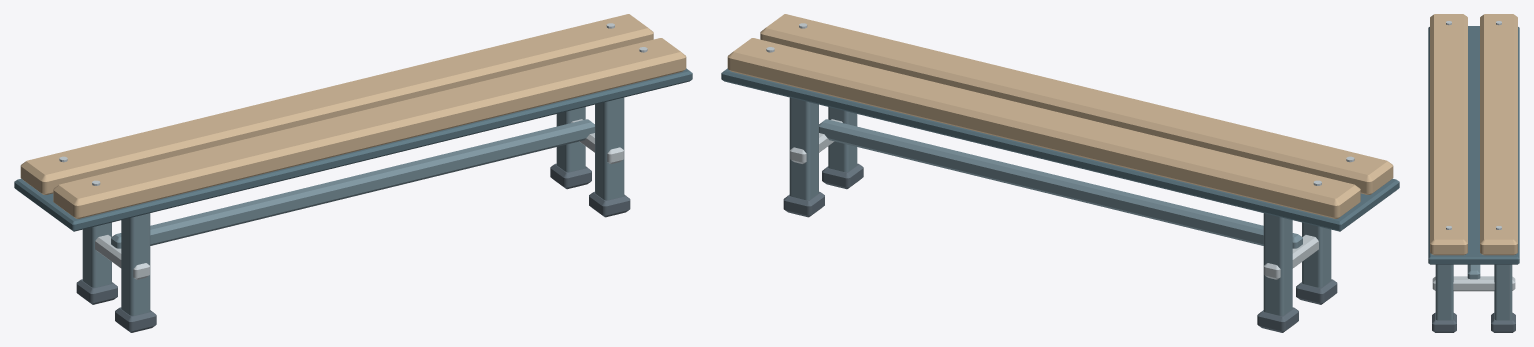
The model's file is canteen_bench.glb.
3 views of the same model, side by side, from view 1: azimuth 30°, elevation 25°; view 2: azimuth 150°, elevation 25°; view 3: azimuth 270°, elevation 25° (orthographic). The views are drawn at different scales.
Visible parts, largest first — view 1: 001_wooden_seat_slat, 000_wooden_seat_slat, 013_stretcher_longitudinal, 002_steel_slat_edge, 010_frame_leg, 005_frame_leg, 003_frame_leg, 008_frame_leg, 007_leg_end_crossbar, 009_rubber_foot, 004_rubber_foot, 011_rubber_foot (+1 smaller); view 2: 000_wooden_seat_slat, 001_wooden_seat_slat, 013_stretcher_longitudinal, 002_steel_slat_edge, 008_frame_leg, 003_frame_leg, 005_frame_leg, 010_frame_leg, 007_leg_end_crossbar, 011_rubber_foot, 006_rubber_foot, 009_rubber_foot (+1 smaller); view 3: 000_wooden_seat_slat, 001_wooden_seat_slat, 002_steel_slat_edge, 008_frame_leg, 010_frame_leg, 012_leg_end_crossbar, 009_rubber_foot, 011_rubber_foot, 013_stretcher_longitudinal.
Part boxes in pixels (x1,y1,x2,y2): 001_wooden_seat_slat: [53, 38, 686, 218]; 000_wooden_seat_slat: [20, 14, 653, 194]; 013_stretcher_longitudinal: [111, 119, 594, 248]; 002_steel_slat_edge: [14, 68, 692, 231]; 010_frame_leg: [595, 97, 624, 200]; 005_frame_leg: [121, 213, 150, 315]; 003_frame_leg: [82, 222, 111, 287]; 008_frame_leg: [556, 107, 585, 172]; 007_leg_end_crossbar: [95, 235, 149, 279]; 009_rubber_foot: [550, 163, 591, 189]; 004_rubber_foot: [76, 279, 117, 304]; 011_rubber_foot: [589, 191, 630, 217]; 000_wooden_seat_slat: [727, 38, 1360, 218]; 001_wooden_seat_slat: [760, 14, 1393, 194]; 013_stretcher_longitudinal: [819, 119, 1302, 248]; 002_steel_slat_edge: [721, 68, 1399, 231]; 008_frame_leg: [789, 97, 818, 200]; 003_frame_leg: [1263, 213, 1292, 315]; 005_frame_leg: [1302, 222, 1331, 287]; 010_frame_leg: [828, 107, 857, 172]; 007_leg_end_crossbar: [1264, 235, 1318, 279]; 011_rubber_foot: [822, 163, 863, 189]; 006_rubber_foot: [1296, 279, 1337, 304]; 009_rubber_foot: [783, 191, 824, 217]; 000_wooden_seat_slat: [1480, 14, 1517, 255]; 001_wooden_seat_slat: [1430, 14, 1467, 255]; 002_steel_slat_edge: [1428, 26, 1519, 264]; 008_frame_leg: [1494, 264, 1512, 320]; 010_frame_leg: [1435, 264, 1453, 320]; 012_leg_end_crossbar: [1432, 276, 1515, 291]; 009_rubber_foot: [1491, 312, 1515, 332]; 011_rubber_foot: [1432, 312, 1456, 332]; 013_stretcher_longitudinal: [1467, 264, 1480, 279].
Size of the model in its own units: 2.2 by 0.51 by 0.365.
